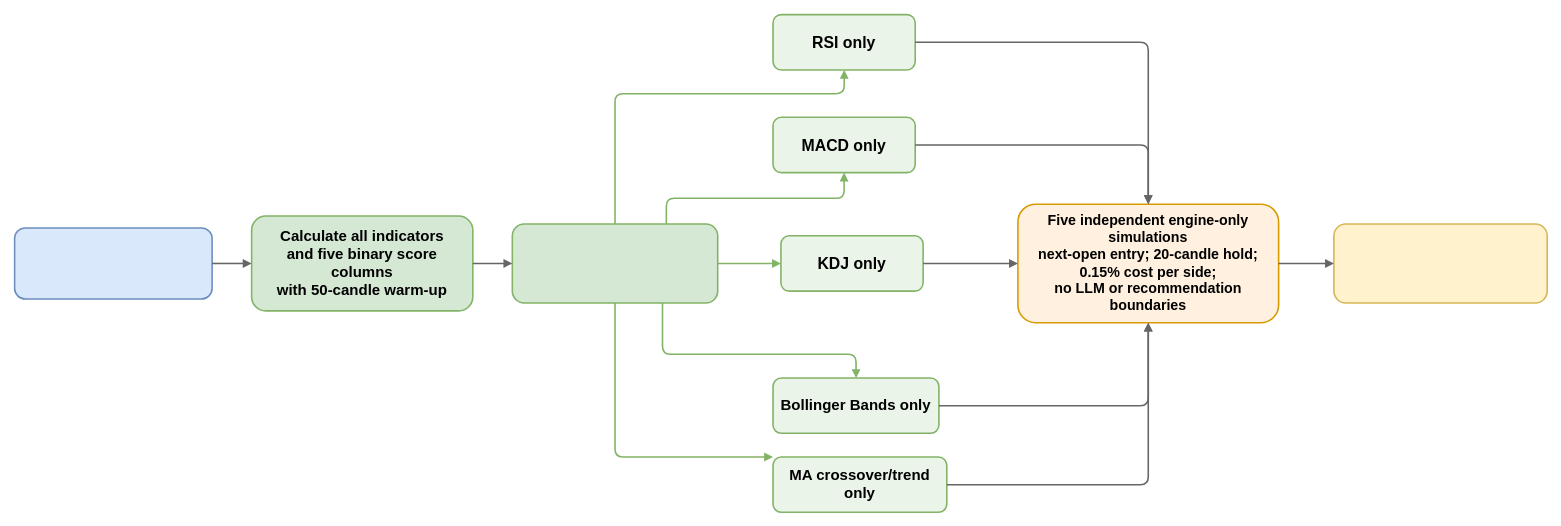
The diagram is 1561 pixels wide and 526 high, and some of its shapes have lost their labels. The shapes that lost their labels are listed below. From the top down, each one's centre as x and y in pixels, then its label:
At (113,263): "Historical stock OHLCV with pre-start history".
At (614,263): "Select one score column score = 1 creates a candidate".
At (1440,263): "Per-indicator metrics and five stored artifacts".
